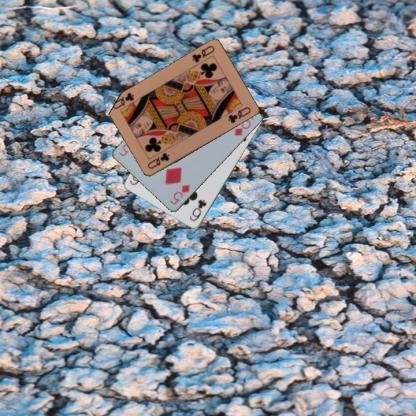5d: (168, 182, 191, 206)
6c: (187, 197, 208, 222)
Qc: (190, 43, 216, 64), (145, 150, 170, 171)
